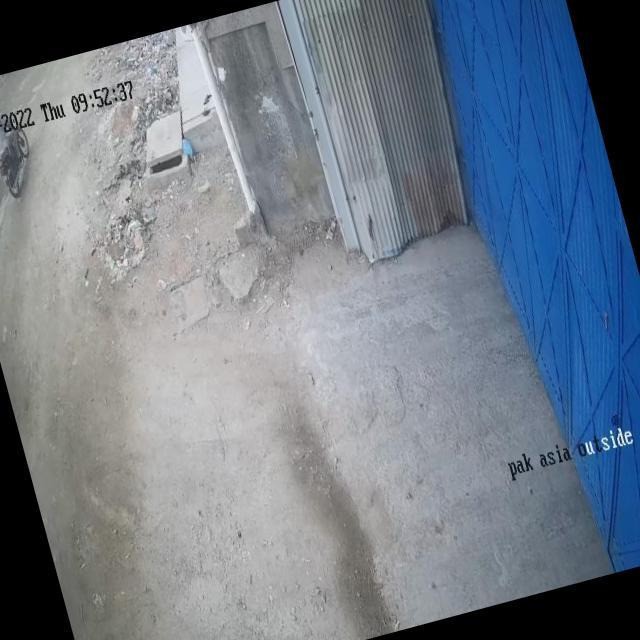person: (0, 89, 26, 173)
